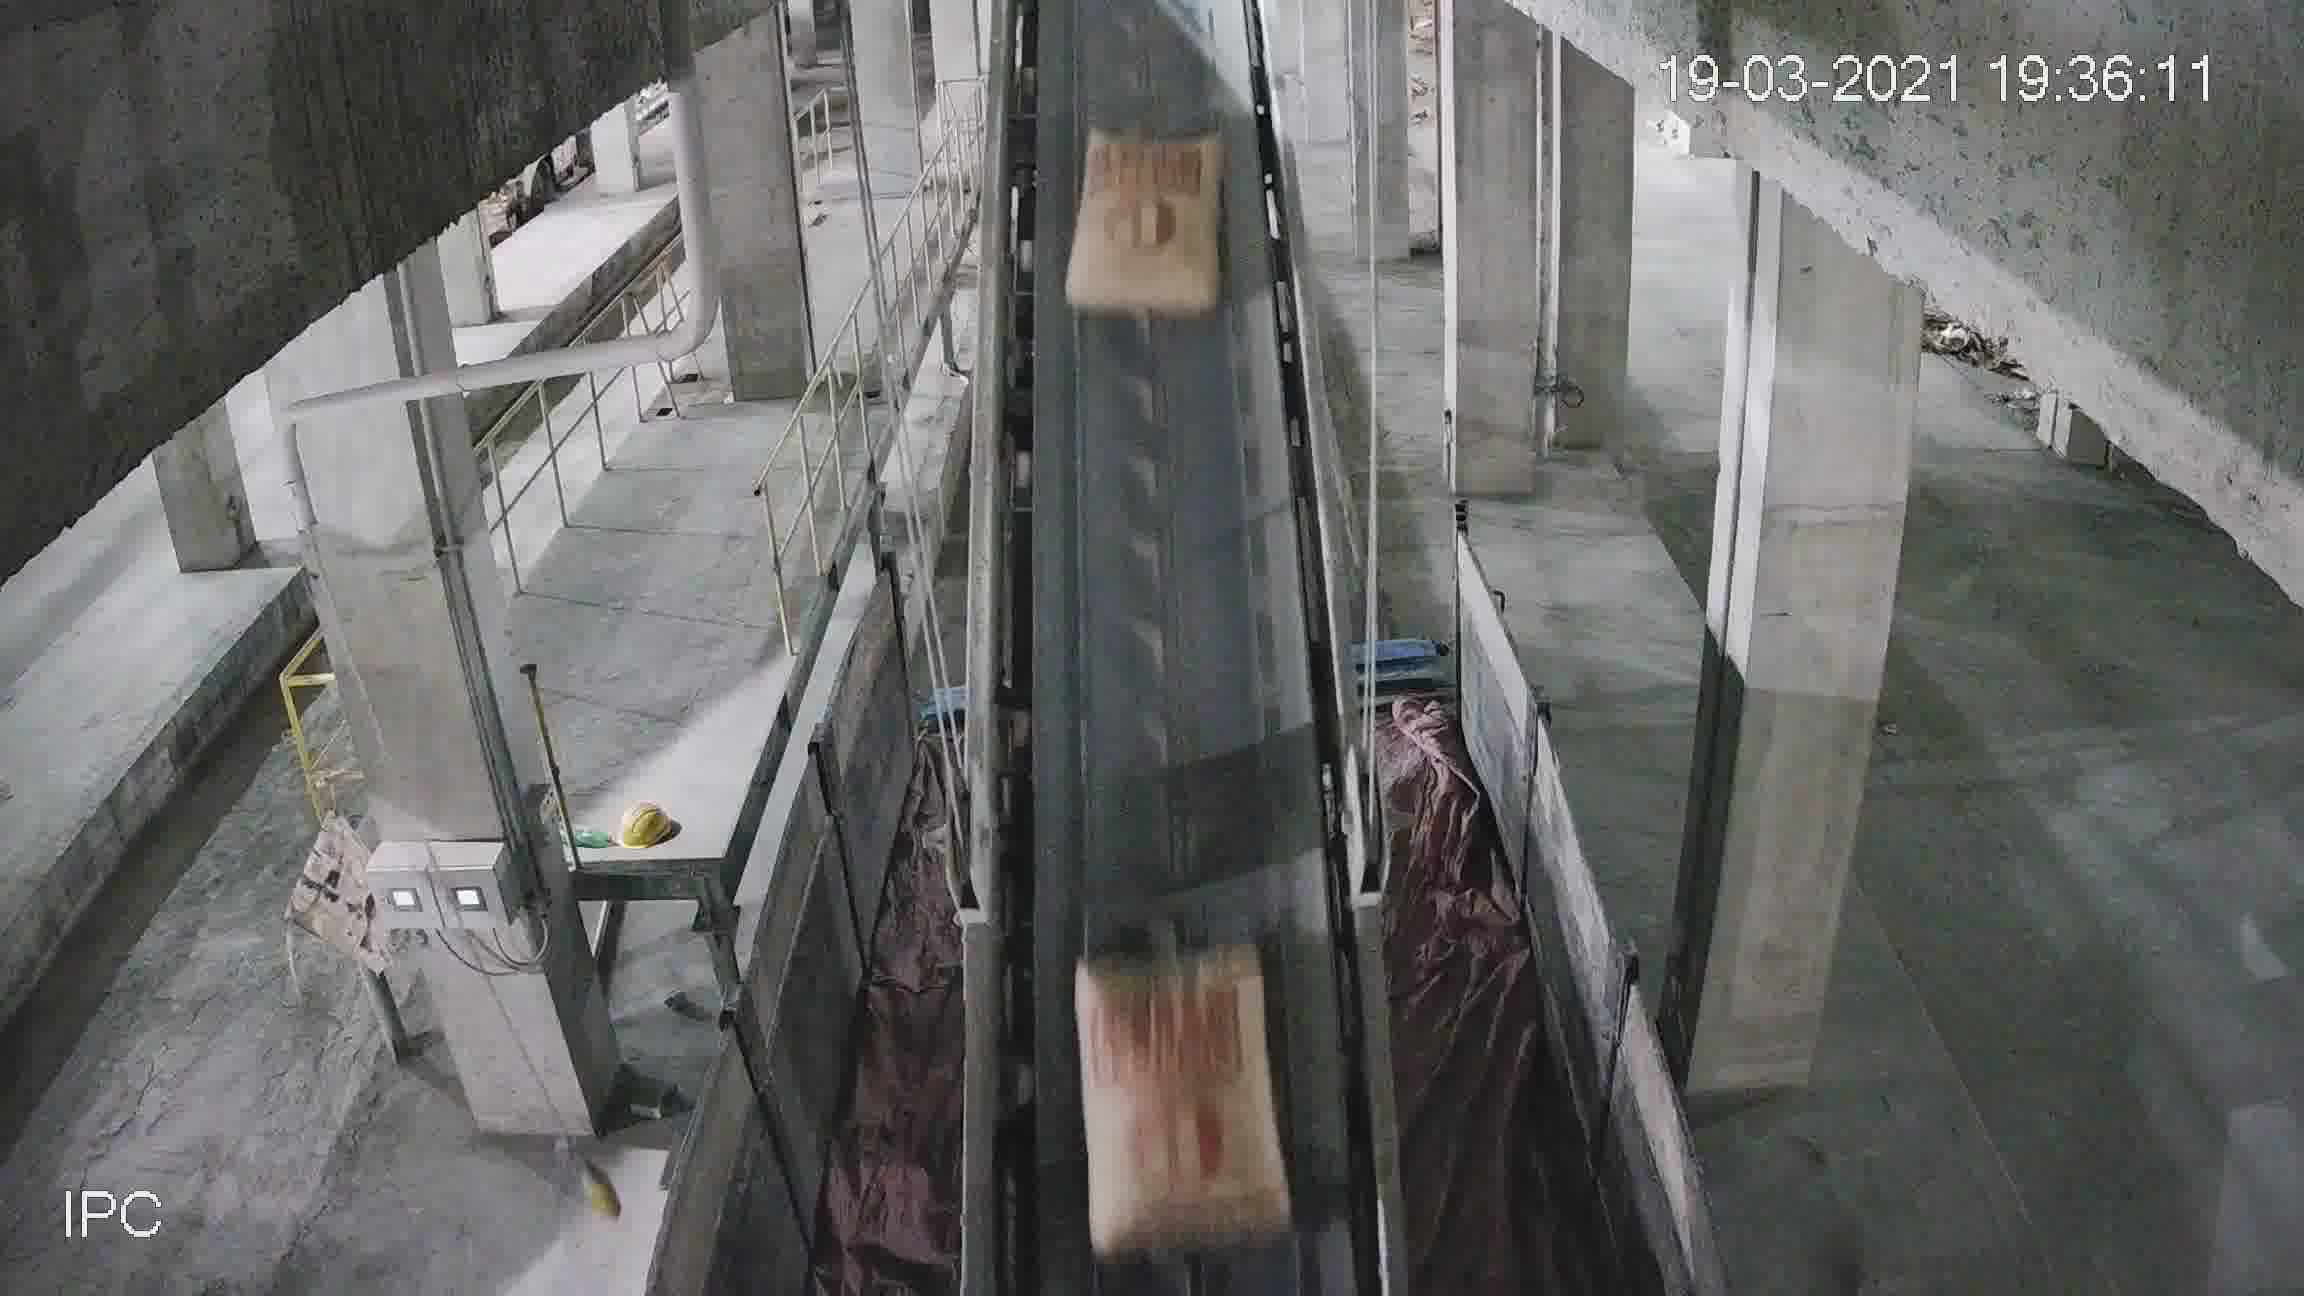bag: (1071, 940, 1290, 1264), (1079, 147, 1222, 305)
belt: (970, 123, 1367, 1294)
